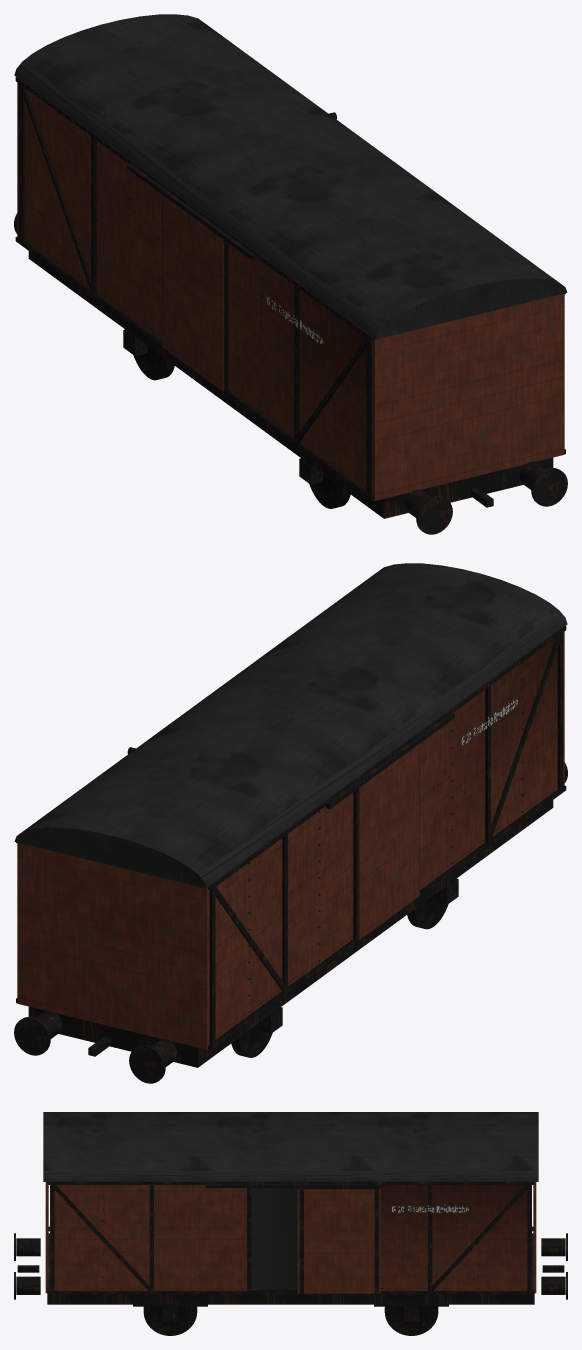
File: freight_car.glb
The picture shows the model from 3 angles, top to bottom: view 1: azimuth 30°, elevation 25°; view 2: azimuth 150°, elevation 25°; view 3: azimuth 270°, elevation 25°; orthographic projection. The views are drawn at different scales.
Parts seen in each view (by area): view 1: Body, Wheels, Axle_Front, Axle_Rear; view 2: Body, Wheels, Axle_Front, Axle_Rear; view 3: Body, Door, Axle_Front, Axle_Rear, Wheels.
Boxes of the visible parts, x1,y1,x2,y2 form: Body: (14, 14, 567, 534); Wheels: (123, 329, 322, 484); Axle_Front: (309, 474, 350, 508); Axle_Rear: (133, 346, 174, 380); Body: (14, 563, 567, 1083); Wheels: (259, 878, 458, 1033); Axle_Front: (407, 895, 448, 929); Axle_Rear: (231, 1023, 272, 1057); Body: (14, 1112, 567, 1304); Door: (297, 1180, 380, 1294); Axle_Front: (143, 1306, 197, 1335); Axle_Rear: (384, 1306, 438, 1335); Wheels: (133, 1304, 448, 1321).
Bounding box in the file's own units: 3.02 × 3.87 × 10.34.
6 materials, 5 textured.
